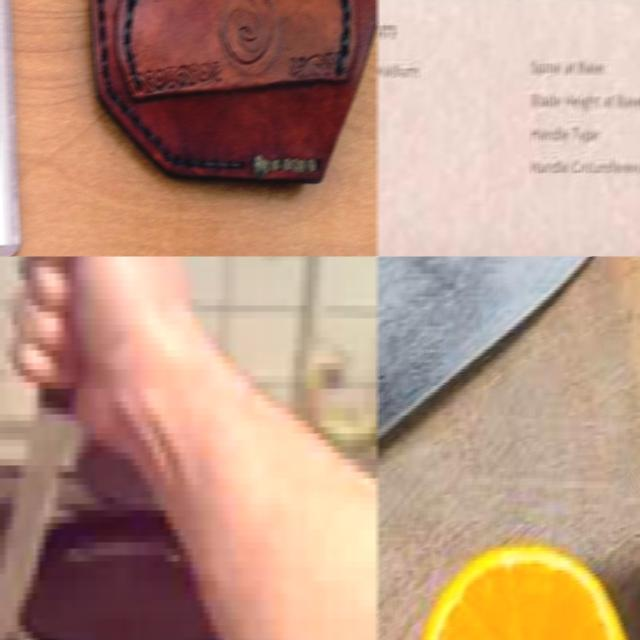Knife: (376, 256, 591, 440)
Knife_Handle: (0, 256, 147, 640)
